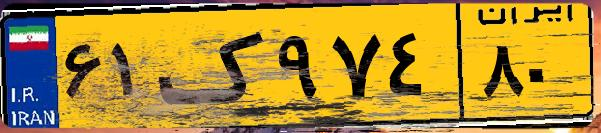0: (525, 38, 570, 115)
1: (110, 28, 158, 98)
4: (385, 28, 445, 110)
6: (57, 26, 110, 100)
7: (330, 28, 385, 110)
8: (475, 38, 525, 113)
9: (270, 28, 330, 110)
ک: (158, 12, 270, 120)
